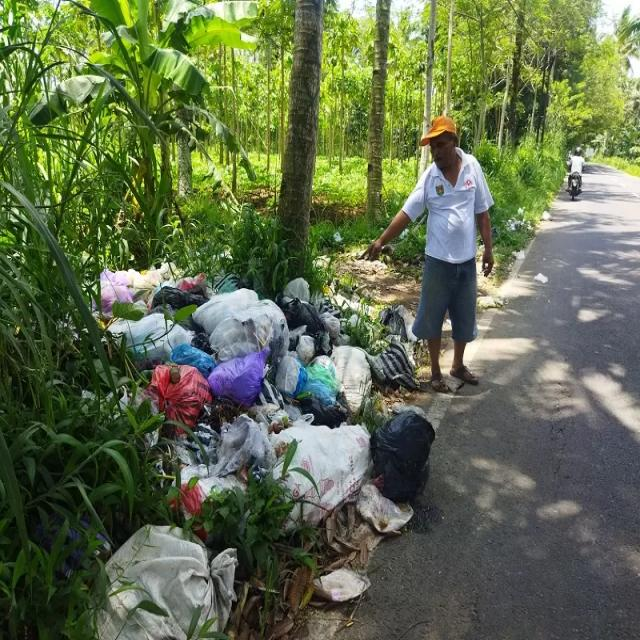trash: (65, 287, 401, 640)
